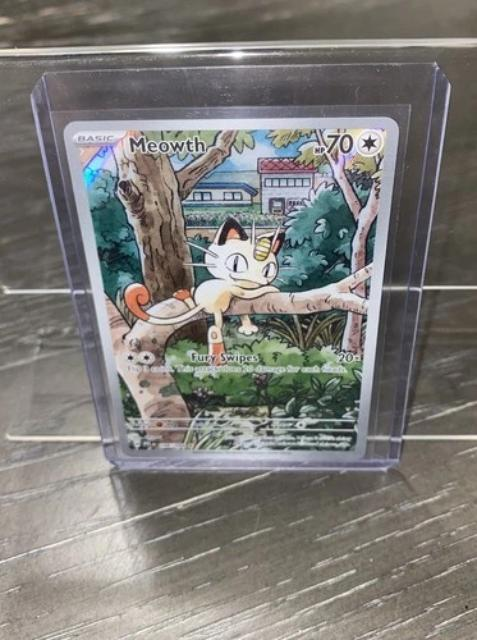Card: (60, 111, 404, 463)
Name: (122, 129, 253, 157)
